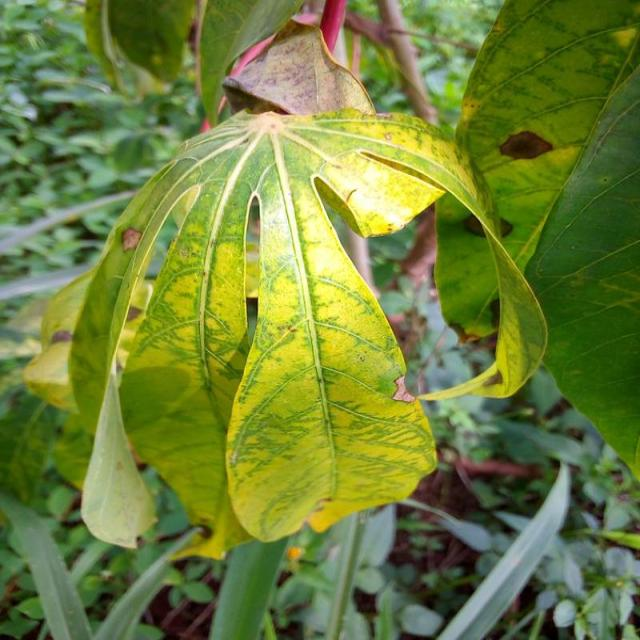Mosaico: (59, 100, 521, 530)
